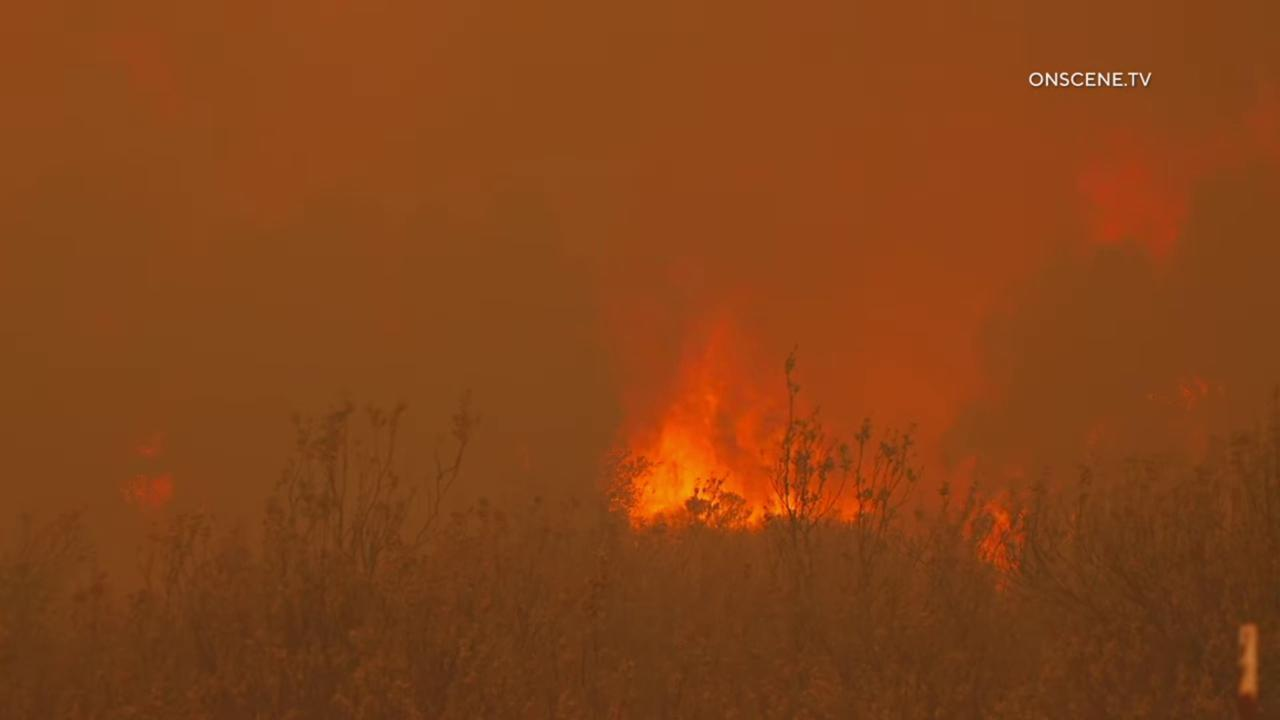fire: (608, 307, 892, 536), (951, 481, 1033, 595), (106, 471, 180, 511)
smoke: (0, 0, 1280, 720)
